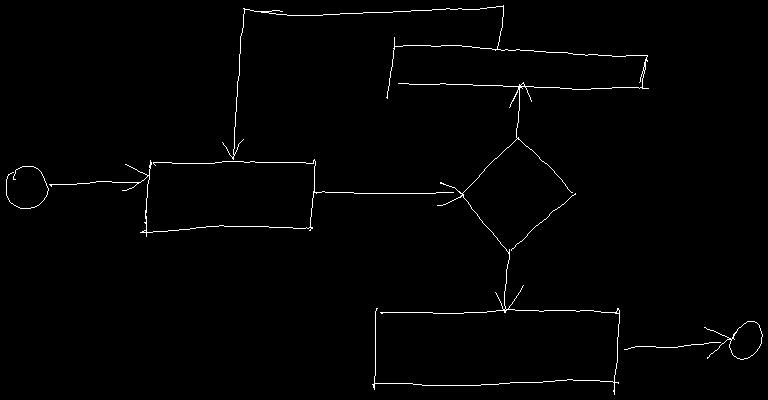arrow: (222, 5, 503, 159), (313, 182, 463, 205), (624, 327, 730, 358), (49, 164, 148, 190), (495, 249, 523, 312), (509, 82, 531, 137)
connection: (6, 166, 48, 208), (729, 321, 762, 359)
decision: (459, 137, 575, 254)
process: (372, 308, 619, 394), (386, 37, 648, 98), (140, 159, 315, 236)
